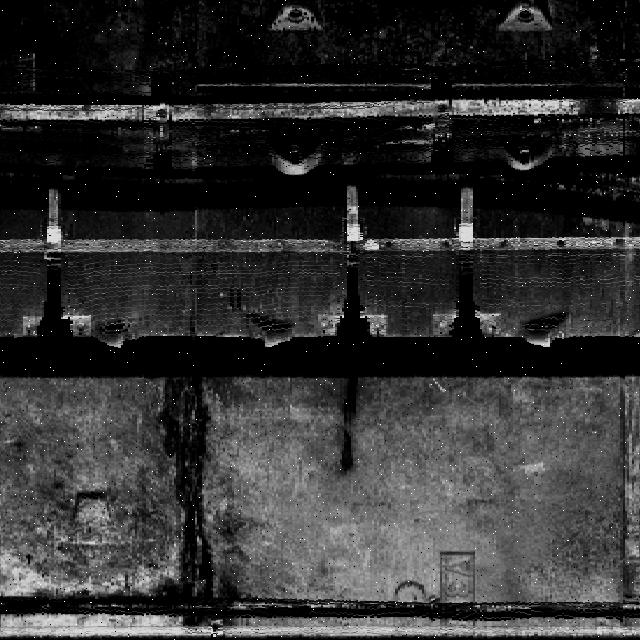leakage: (144, 379, 238, 640), (330, 377, 368, 483)
